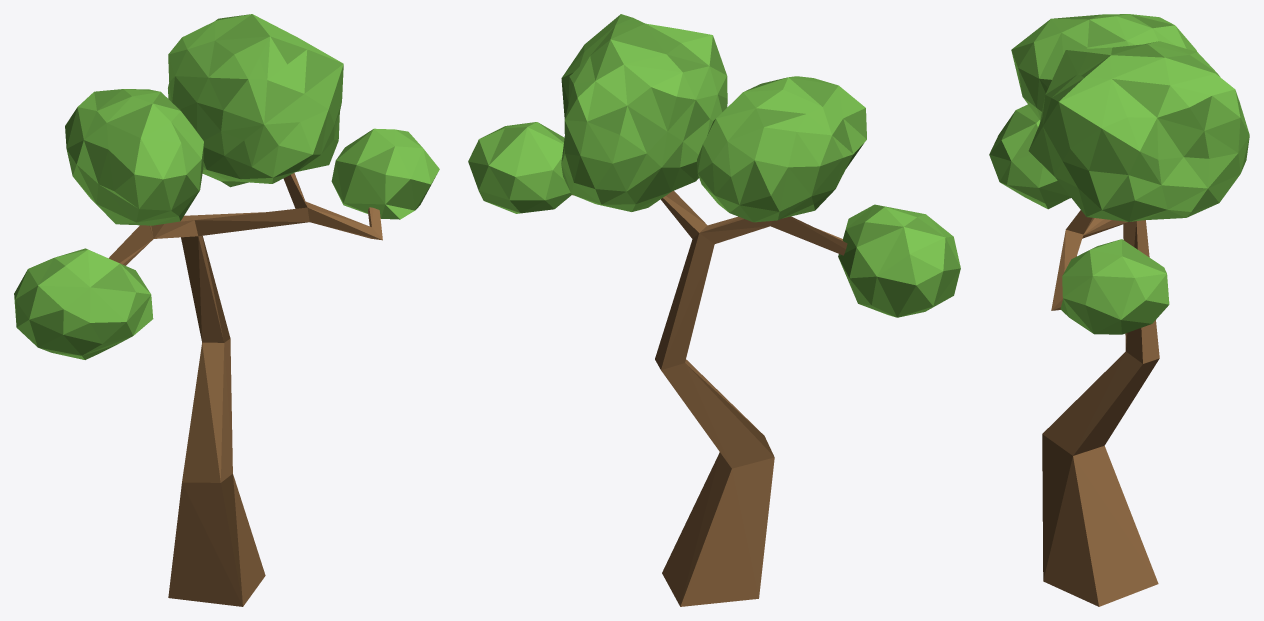
Rendered from LowPolySavannaTree.fbx.
3 renders of one model, left to right at view 1: azimuth 30°, elevation 25°; view 2: azimuth 150°, elevation 25°; view 3: azimuth 270°, elevation 25°, orthographic. The views are drawn at different scales.
Visible parts, largest first — view 1: Icosphere; view 2: Icosphere; view 3: Icosphere.
Boxes of the visible parts, box(x1,y1,x2,y2) form: Icosphere: box(14, 14, 439, 606); Icosphere: box(468, 14, 960, 606); Icosphere: box(989, 14, 1249, 606).
Bounding box in the file's own units: 1451 × 1700 × 718.
